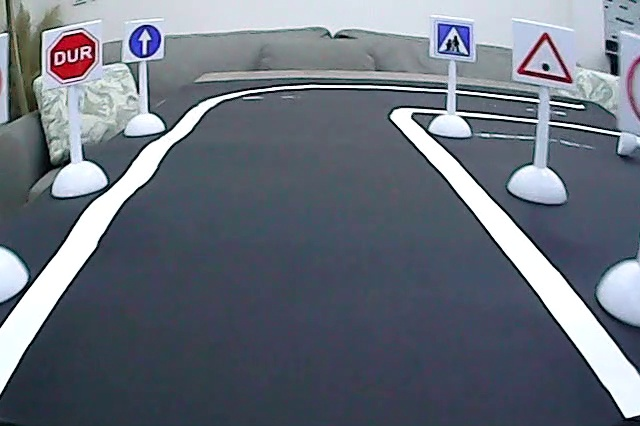green light: (514, 27, 575, 87)
school crossing: (435, 20, 472, 60)
stop sign: (45, 27, 101, 85)
